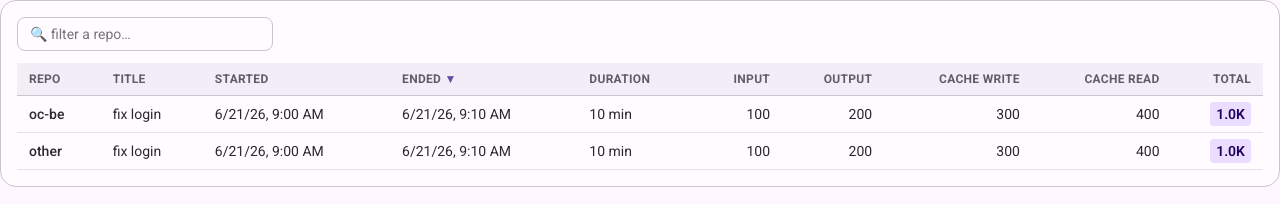
filtering by repo name hides non-matching rows
Type "oc-be" into the field with test id "history-repo-filter". click: (145, 34)
box: [17,17,273,51]
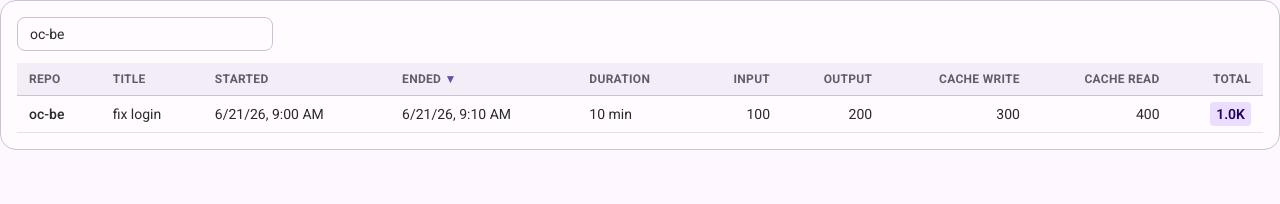
Expected: the row with test id "history-row" shows "oc-be", [29,106,64,122]
Expected: the number of rows with test id "history-row" is 1, [17,96,1263,132]
